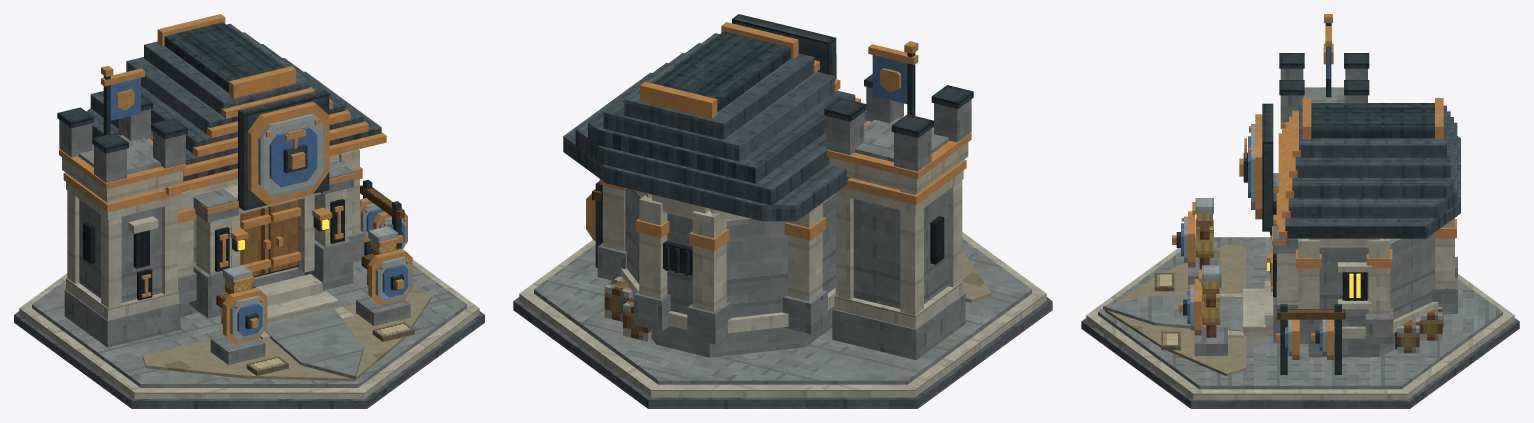
File: dwarf_guardian_hall_hex_v1.glb
3 renders of one model, left to right at view 1: azimuth 30°, elevation 25°; view 2: azimuth 150°, elevation 25°; view 3: azimuth 270°, elevation 25°, orthographic. The views are drawn at different scales.
Visible parts, largest first — view 1: Dwarf_Guardian_Hall_Hex_V1_Bastion, Dwarf_Guardian_Hall_Hex_V1_Foundation, Dwarf_Guardian_Hall_Hex_V1_Roofs, Dwarf_Guardian_Hall_Hex_V1_Hall, Dwarf_Guardian_Hall_Hex_V1_Courtyard, Dwarf_Guardian_Hall_Hex_V1_Details, Dwarf_Guardian_Hall_Hex_V1_Training, Dwarf_Guardian_Hall_Hex_V1_Faction; view 2: Dwarf_Guardian_Hall_Hex_V1_Roofs, Dwarf_Guardian_Hall_Hex_V1_Foundation, Dwarf_Guardian_Hall_Hex_V1_Bastion, Dwarf_Guardian_Hall_Hex_V1_Hall, Dwarf_Guardian_Hall_Hex_V1_Details, Dwarf_Guardian_Hall_Hex_V1_Faction, Dwarf_Guardian_Hall_Hex_V1_Training, Dwarf_Guardian_Hall_Hex_V1_Courtyard; view 3: Dwarf_Guardian_Hall_Hex_V1_Foundation, Dwarf_Guardian_Hall_Hex_V1_Roofs, Dwarf_Guardian_Hall_Hex_V1_Hall, Dwarf_Guardian_Hall_Hex_V1_Courtyard, Dwarf_Guardian_Hall_Hex_V1_Training, Dwarf_Guardian_Hall_Hex_V1_Details, Dwarf_Guardian_Hall_Hex_V1_Bastion, Dwarf_Guardian_Hall_Hex_V1_Faction.
Boxes of the visible parts, x1,y1,x2,y2 form: Dwarf_Guardian_Hall_Hex_V1_Bastion: (57,94,187,347); Dwarf_Guardian_Hall_Hex_V1_Foundation: (14,255,484,408); Dwarf_Guardian_Hall_Hex_V1_Roofs: (86,14,386,195); Dwarf_Guardian_Hall_Hex_V1_Hall: (178,149,364,318); Dwarf_Guardian_Hall_Hex_V1_Courtyard: (142,274,431,381); Dwarf_Guardian_Hall_Hex_V1_Details: (101,65,354,300); Dwarf_Guardian_Hall_Hex_V1_Training: (210,179,412,364); Dwarf_Guardian_Hall_Hex_V1_Faction: (110,78,408,336); Dwarf_Guardian_Hall_Hex_V1_Roofs: (563,22,867,221); Dwarf_Guardian_Hall_Hex_V1_Foundation: (513,232,1052,408); Dwarf_Guardian_Hall_Hex_V1_Bastion: (824,74,973,359); Dwarf_Guardian_Hall_Hex_V1_Hall: (597,179,835,357); Dwarf_Guardian_Hall_Hex_V1_Details: (604,14,918,341); Dwarf_Guardian_Hall_Hex_V1_Faction: (872,55,907,103); Dwarf_Guardian_Hall_Hex_V1_Training: (586,181,602,267); Dwarf_Guardian_Hall_Hex_V1_Courtyard: (962,251,991,302); Dwarf_Guardian_Hall_Hex_V1_Foundation: (1081,237,1519,408); Dwarf_Guardian_Hall_Hex_V1_Roofs: (1278,98,1460,238); Dwarf_Guardian_Hall_Hex_V1_Hall: (1273,173,1457,356); Dwarf_Guardian_Hall_Hex_V1_Courtyard: (1103,244,1276,376); Dwarf_Guardian_Hall_Hex_V1_Training: (1172,198,1345,374); Dwarf_Guardian_Hall_Hex_V1_Details: (1239,14,1442,353); Dwarf_Guardian_Hall_Hex_V1_Bastion: (1279,53,1369,128); Dwarf_Guardian_Hall_Hex_V1_Faction: (1181,46,1330,350).
Bounding box in the file's own units: 1.59 × 1.18 × 1.84.
Materials: 1 (1 with a texture image).
